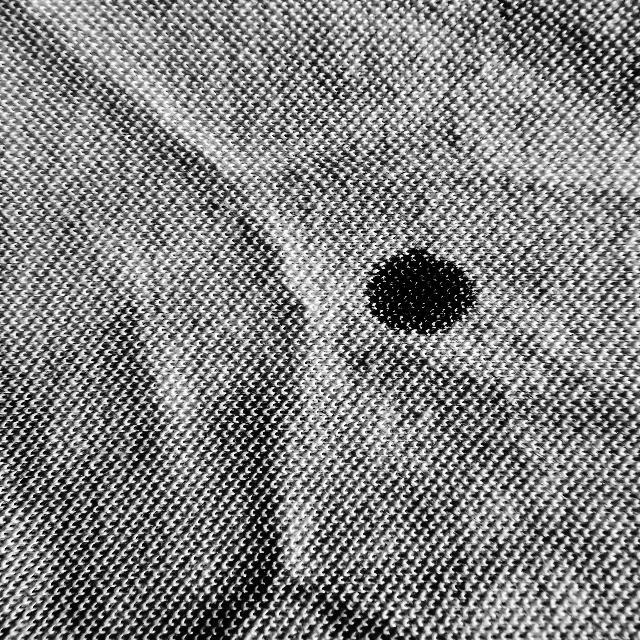Color_defect: (357, 234, 487, 341)
